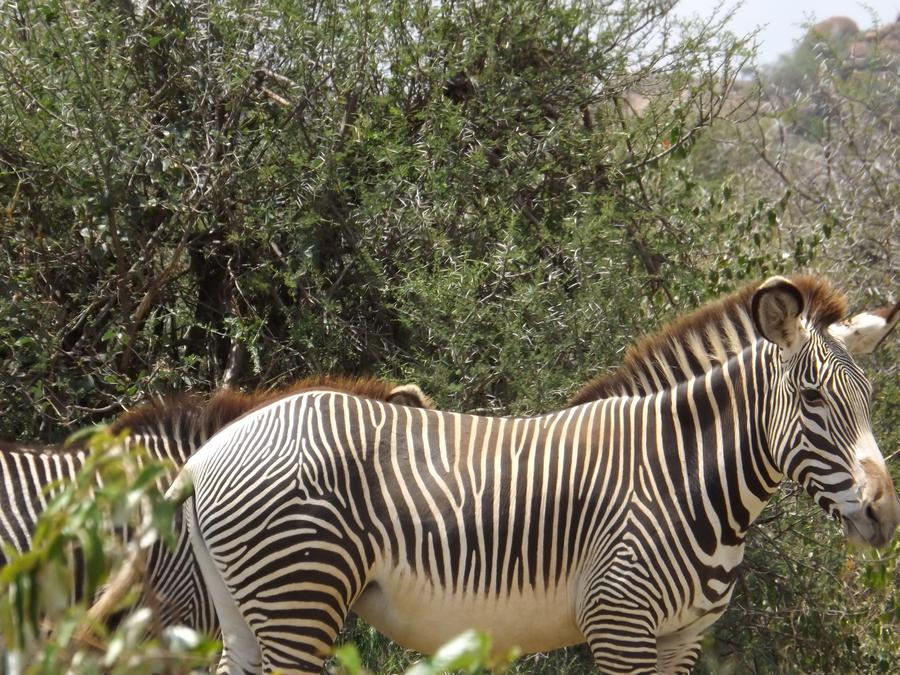zebra_grevys: (189, 382, 694, 621)
